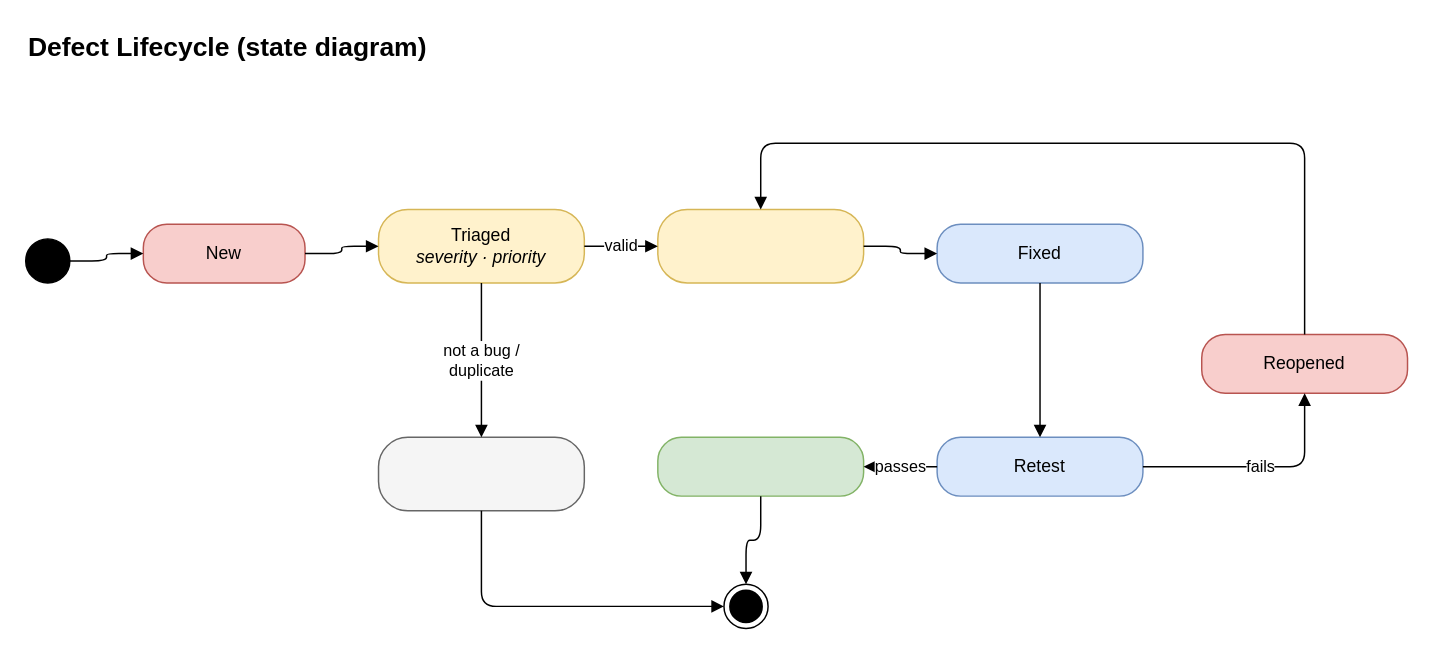
Image size: 1433x654. Some labels were removed from this diagram. Each missing label, with the centre of its shape:
"Assigned to developer" goes at (760,245).
"Closed" goes at (760,466).
"Rejected / Duplicate" goes at (480,473).
